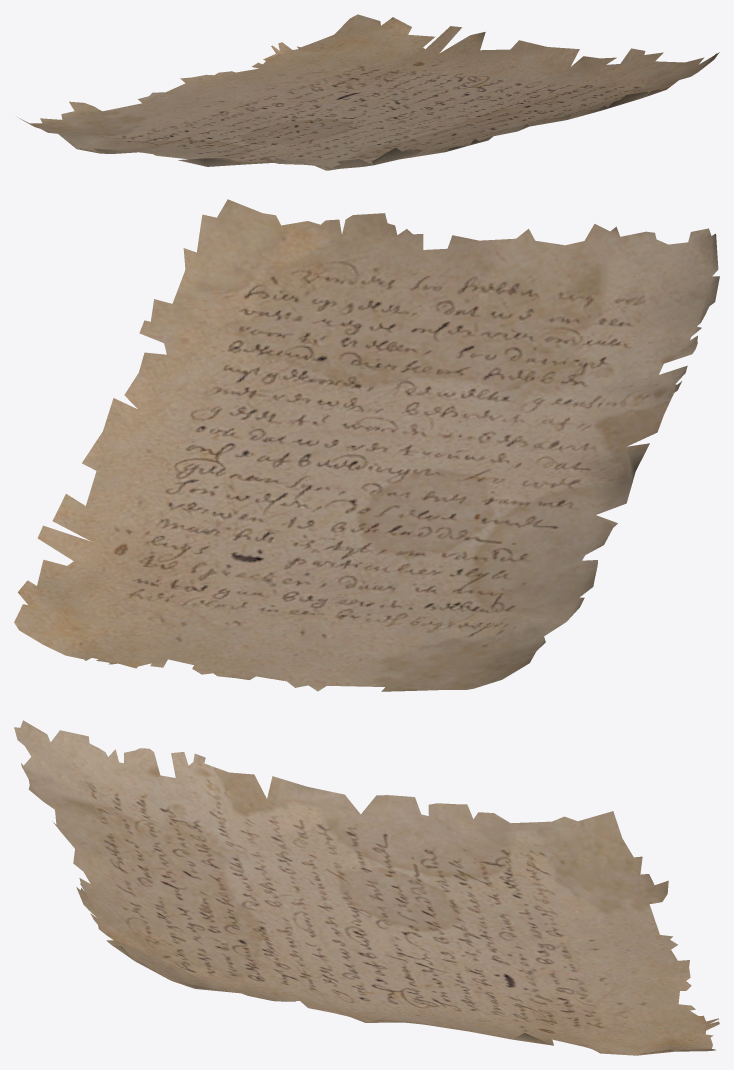
Rendered from Libary_LP_Note.fbx.
3 views of the same model, one above another, from view 1: azimuth 30°, elevation 25°; view 2: azimuth 150°, elevation 25°; view 3: azimuth 270°, elevation 25° (orthographic). The views are drawn at different scales.
Visible parts, largest first — view 1: GEN_PRO_Scrolls_01A_LOD0(0x1A1CF1E745A).001; view 2: GEN_PRO_Scrolls_01A_LOD0(0x1A1CF1E745A).001; view 3: GEN_PRO_Scrolls_01A_LOD0(0x1A1CF1E745A).001.
Boxes of the visible parts, box(x1,y1,x2,y2) form: GEN_PRO_Scrolls_01A_LOD0(0x1A1CF1E745A).001: box(17, 14, 719, 170); GEN_PRO_Scrolls_01A_LOD0(0x1A1CF1E745A).001: box(14, 199, 719, 691); GEN_PRO_Scrolls_01A_LOD0(0x1A1CF1E745A).001: box(14, 720, 719, 1055).
Bounding box in the file's own units: 0.4079 × 0.1452 × 0.4635.
